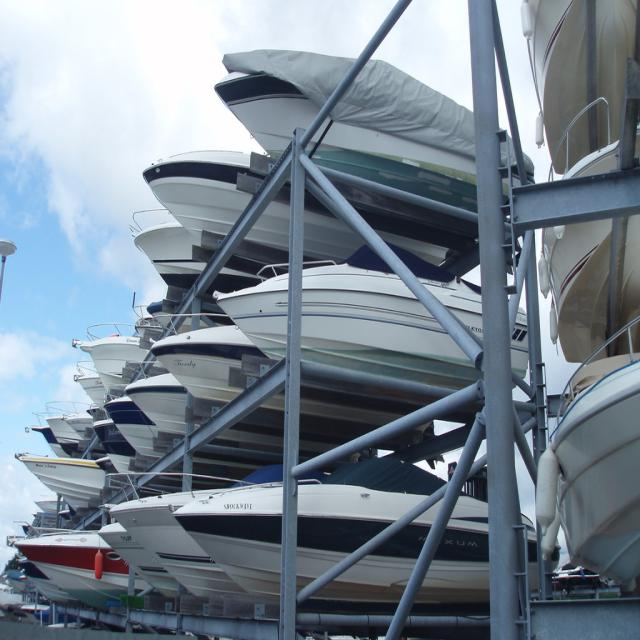Boat: (172, 450, 564, 610), (214, 45, 534, 238), (216, 261, 533, 392), (142, 144, 461, 262), (542, 125, 640, 370), (546, 342, 640, 593), (108, 470, 288, 600), (523, 0, 640, 179), (10, 525, 160, 617), (148, 311, 274, 406), (140, 210, 269, 298), (104, 521, 196, 603), (14, 448, 114, 508), (73, 319, 156, 382), (123, 369, 200, 435), (101, 394, 180, 458), (88, 410, 137, 483), (42, 394, 102, 452), (17, 558, 73, 608), (24, 406, 74, 461), (148, 298, 210, 336), (73, 369, 110, 411), (130, 302, 167, 336), (0, 579, 24, 619)
